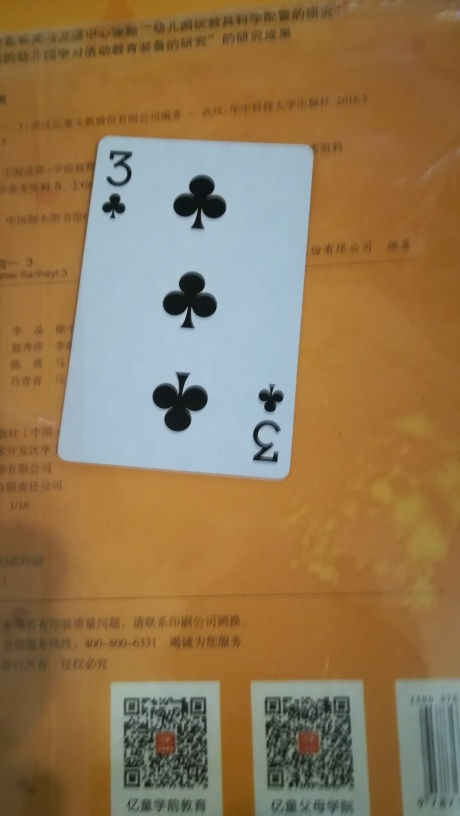mh 3: (55, 130, 316, 480)
